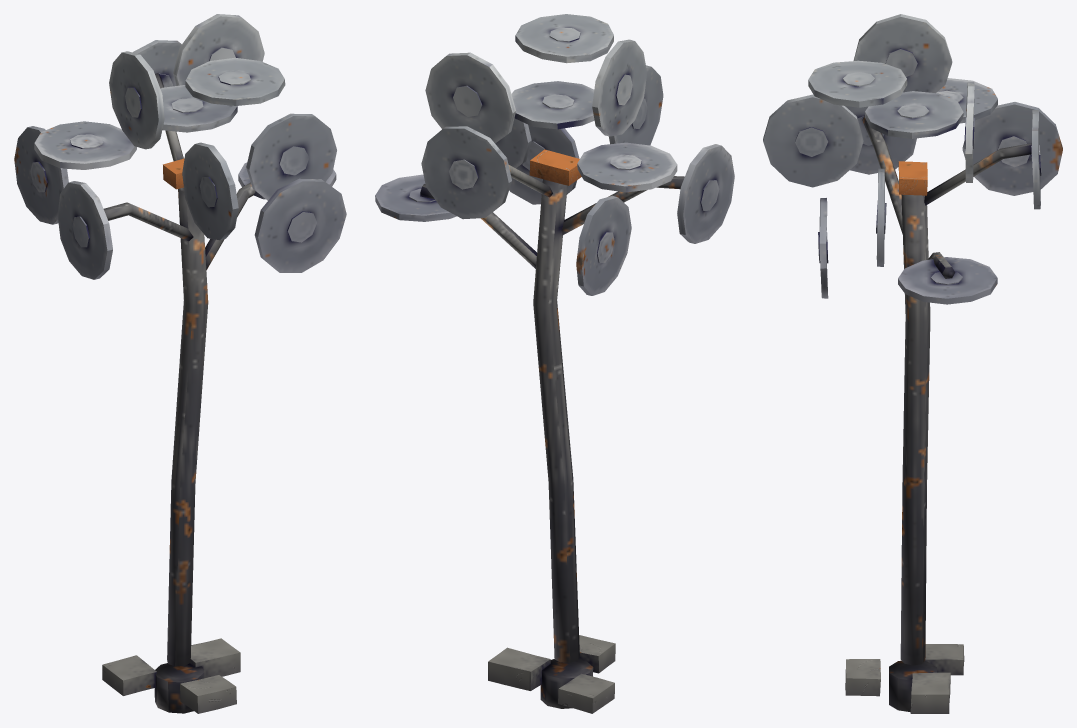
File: ScrapTreeLamppost.glb
The picture shows the model from 3 angles, left to right: view 1: azimuth 30°, elevation 25°; view 2: azimuth 150°, elevation 25°; view 3: azimuth 270°, elevation 25°; orthographic projection.
Parts seen in each view (by area): view 1: Hubcaps, Trunk, Rubble; view 2: Hubcaps, Trunk, Rubble, Lamp; view 3: Hubcaps, Trunk, Rubble, Lamp.
Boxes of the visible parts, bbox=[...] form: Hubcaps: bbox=[14, 14, 346, 279]; Trunk: bbox=[103, 73, 255, 713]; Rubble: bbox=[102, 638, 240, 713]; Hubcaps: bbox=[375, 14, 734, 295]; Trunk: bbox=[420, 165, 684, 708]; Rubble: bbox=[488, 635, 615, 713]; Lamp: bbox=[529, 149, 581, 185]; Hubcaps: bbox=[763, 14, 1062, 304]; Trunk: bbox=[862, 115, 1031, 712]; Rubble: bbox=[845, 644, 964, 713]; Lamp: bbox=[898, 161, 927, 195].
Bounding box in the file's own units: 5.99 × 13.13 × 5.38.
4 materials, 4 textured.
